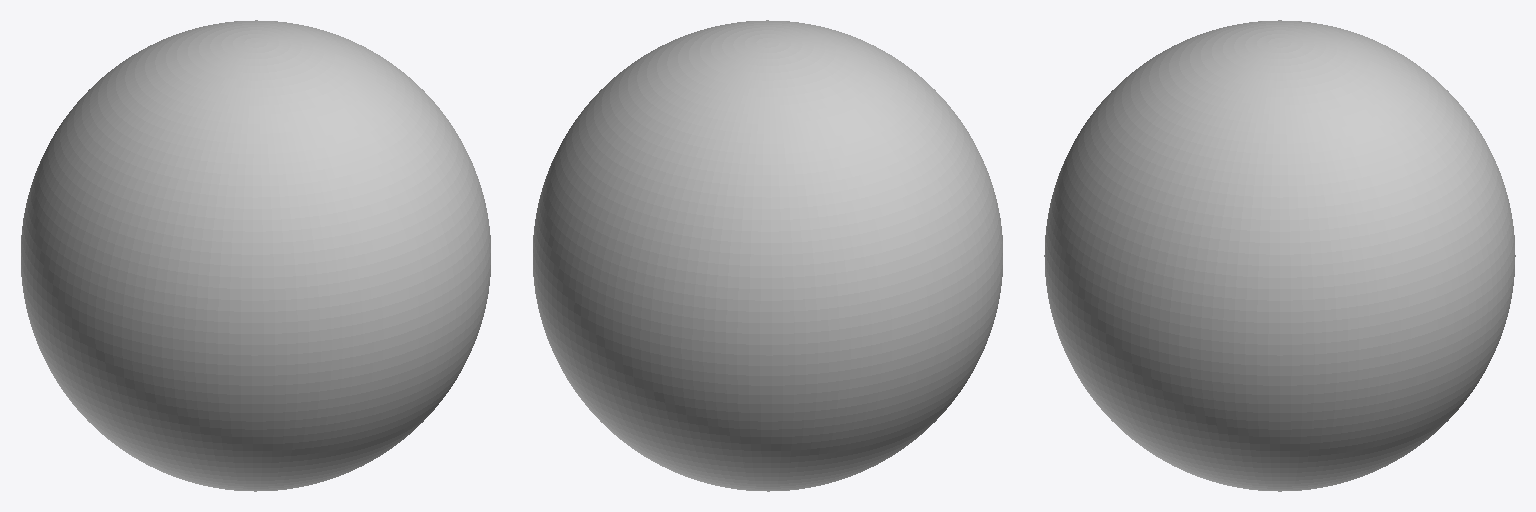
File: earth.obj
The picture shows the model from 3 angles: view 1: azimuth 30°, elevation 25°; view 2: azimuth 150°, elevation 25°; view 3: azimuth 270°, elevation 25°; orthographic projection.
Visible parts, largest first — view 1: map1; view 2: map1; view 3: map1.
Part boxes in pixels (x1,y1,x2,y2): map1: (21, 20, 490, 491); map1: (533, 20, 1002, 491); map1: (1044, 20, 1515, 491).
Size of the model in its own units: 6.37 by 6.37 by 6.37.